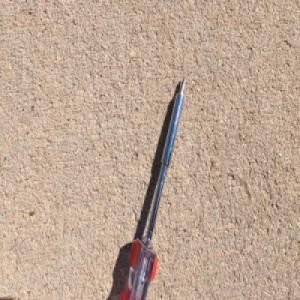Screwdriver: (114, 72, 187, 300)
